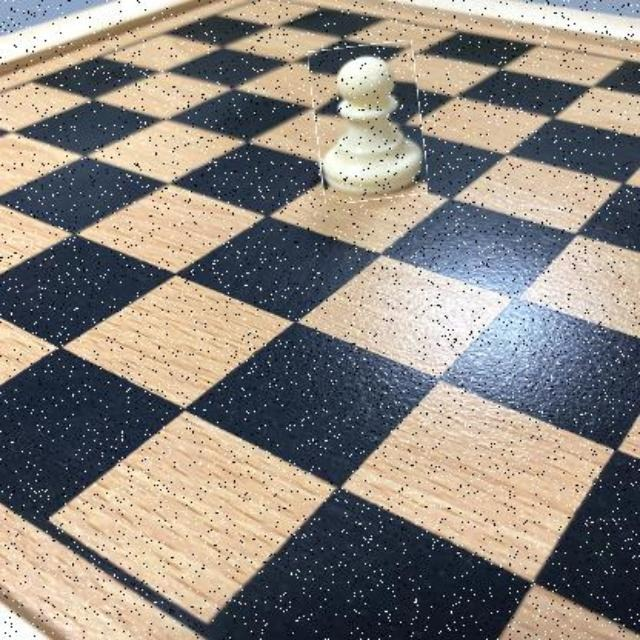white-pawn: (312, 44, 425, 202)
